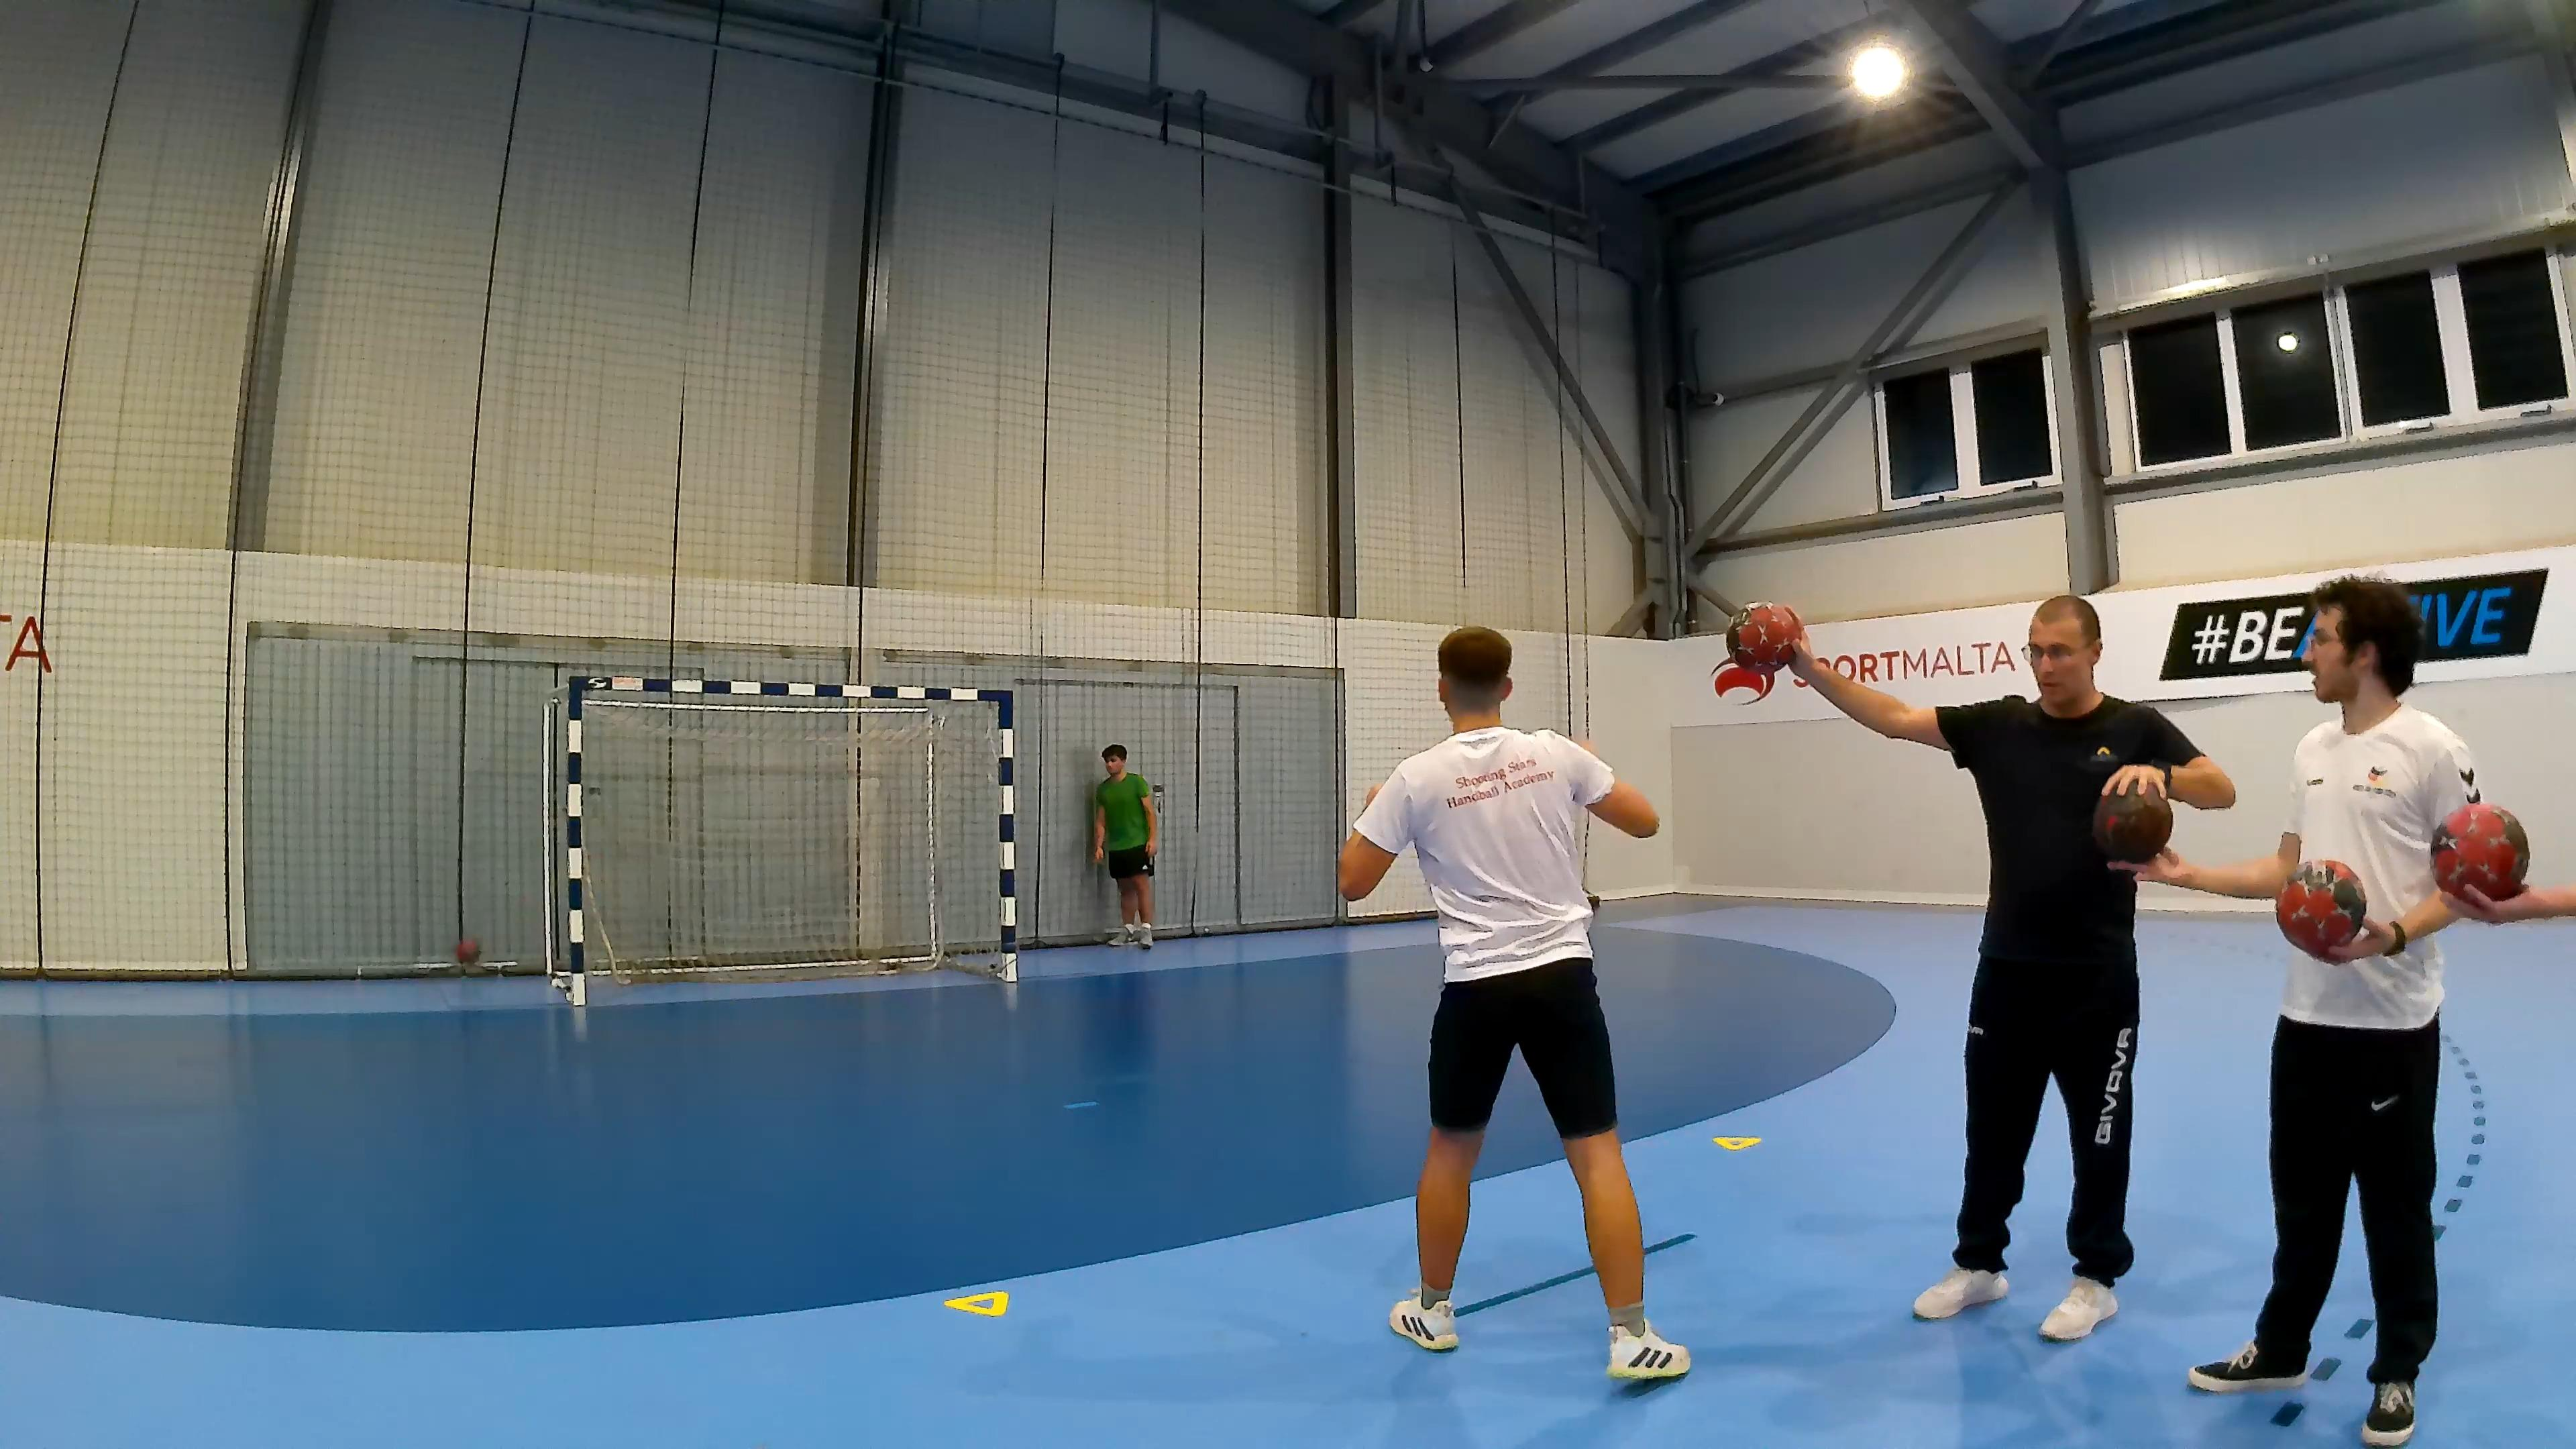handball: (2427, 801, 2530, 904), (2273, 858, 2367, 961), (2091, 787, 2173, 863), (1725, 600, 1805, 672), (449, 931, 485, 973)
